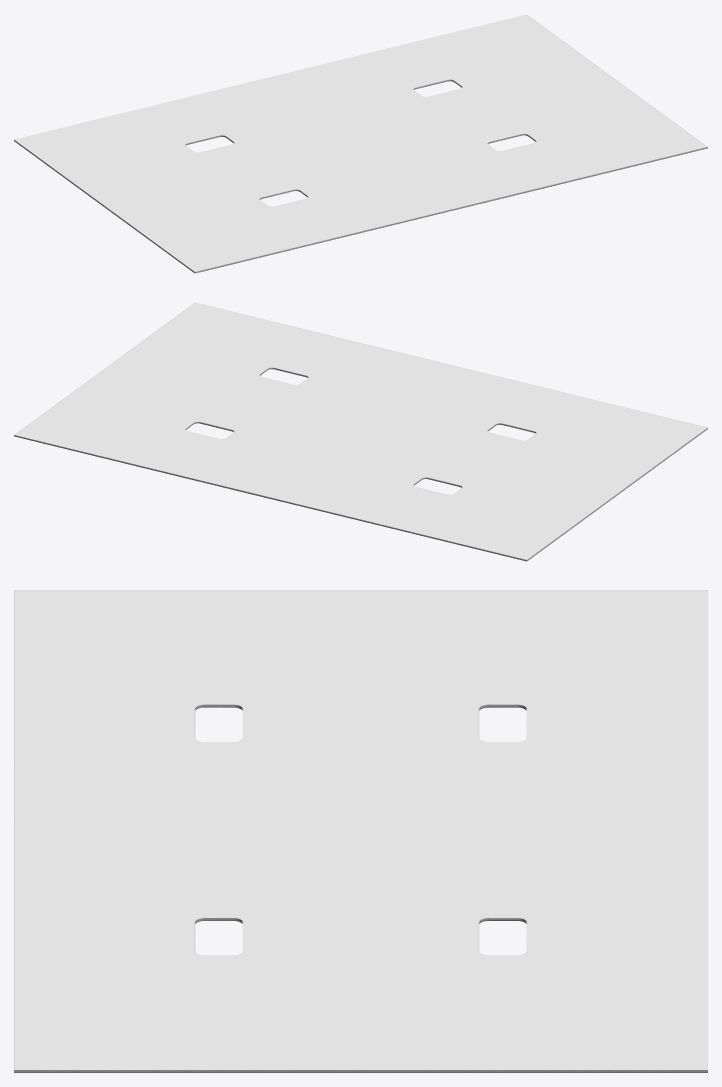
The picture shows the model from 3 angles, top to bottom: view 1: azimuth 30°, elevation 25°; view 2: azimuth 150°, elevation 25°; view 3: azimuth 270°, elevation 25°; orthographic projection. The views are drawn at different scales.
Parts seen in each view (by area): view 1: HORNEADO_suelo; view 2: HORNEADO_suelo; view 3: HORNEADO_suelo.
Part boxes in pixels (bbox=[...]): HORNEADO_suelo: bbox=[14, 14, 707, 273]; HORNEADO_suelo: bbox=[14, 302, 707, 561]; HORNEADO_suelo: bbox=[14, 590, 707, 1072].
Size of what is drawn, in the model's own units: 36 by 0.1 by 22.
Materials: 1 (1 with a texture image).
